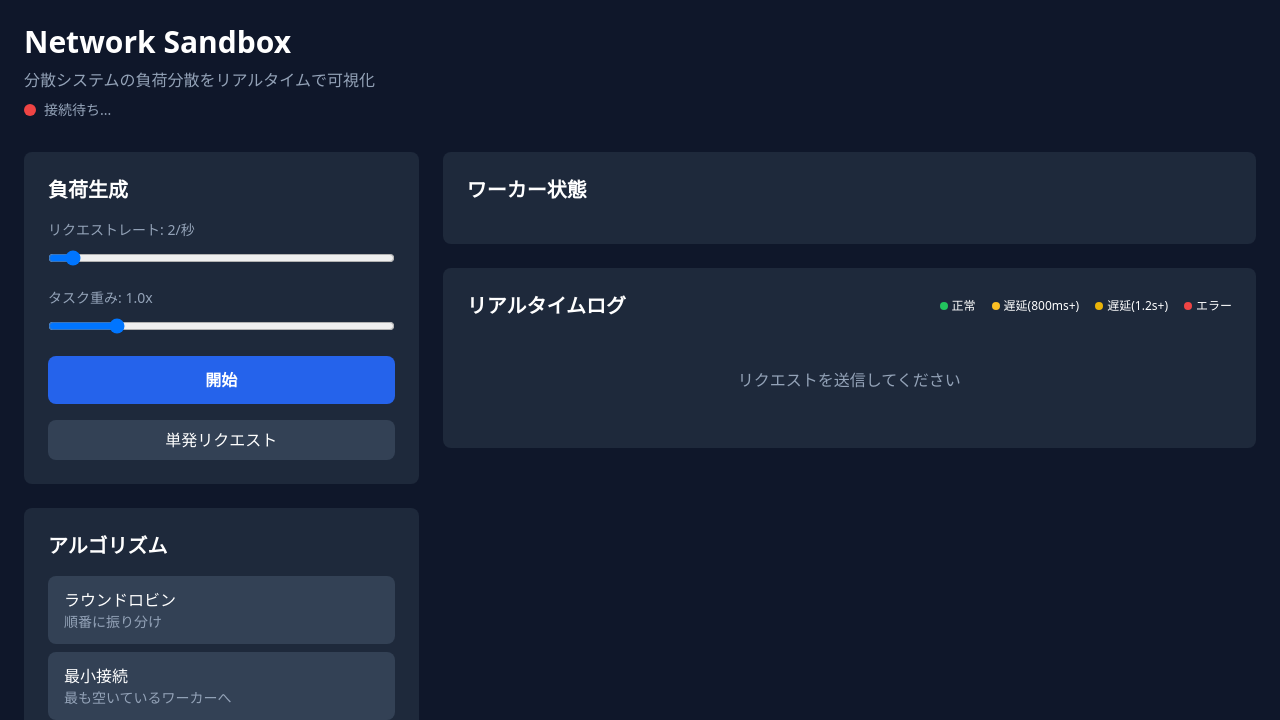
Scenario: App Component › Statistics Display › should update success count when tasks succeed
Click the button "単発リクエスト" at (221, 440), box [48, 420, 395, 460]
(page scrolled)
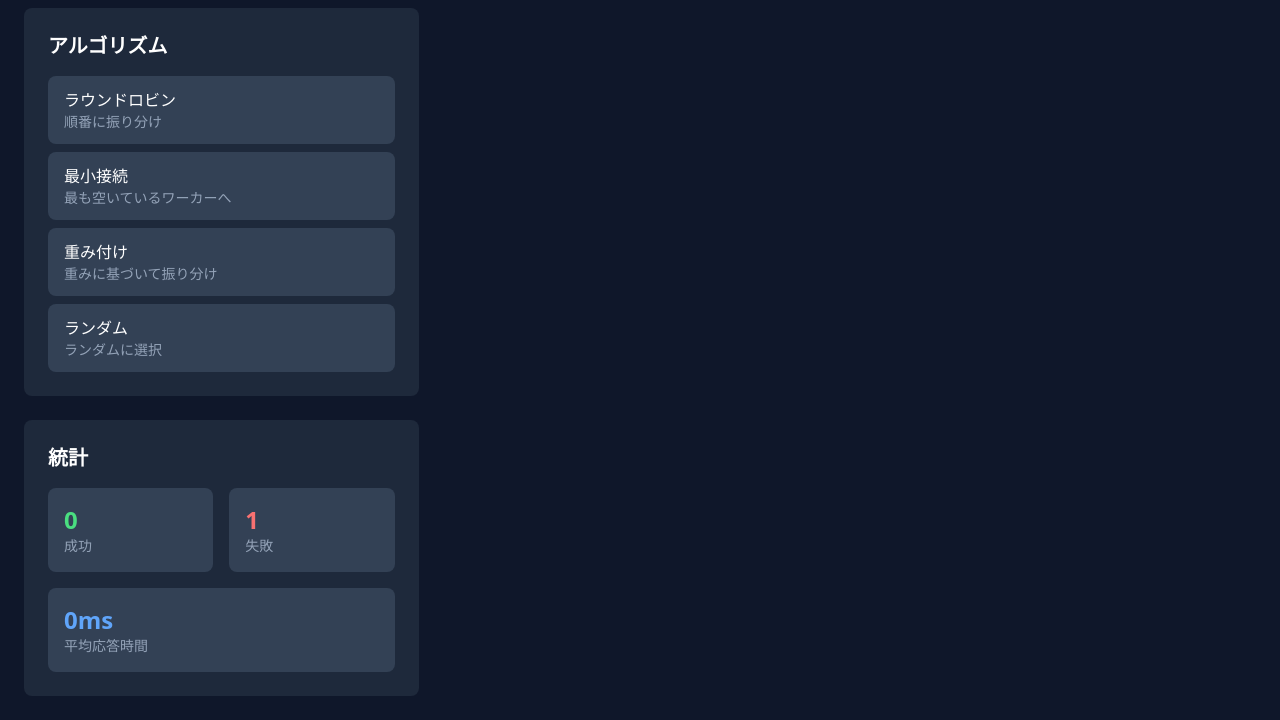
Expected: the text "1" is shown, [245, 503, 259, 536]
